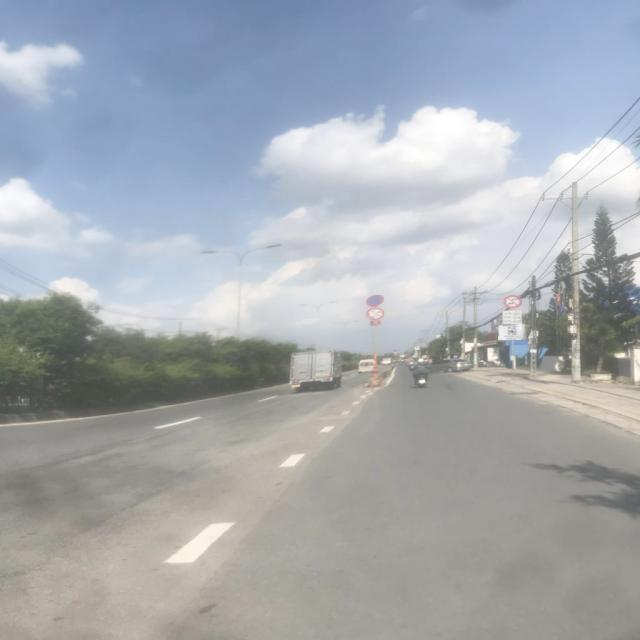107-cam-oto-khach-va-oto-tai: (502, 295, 522, 309)
